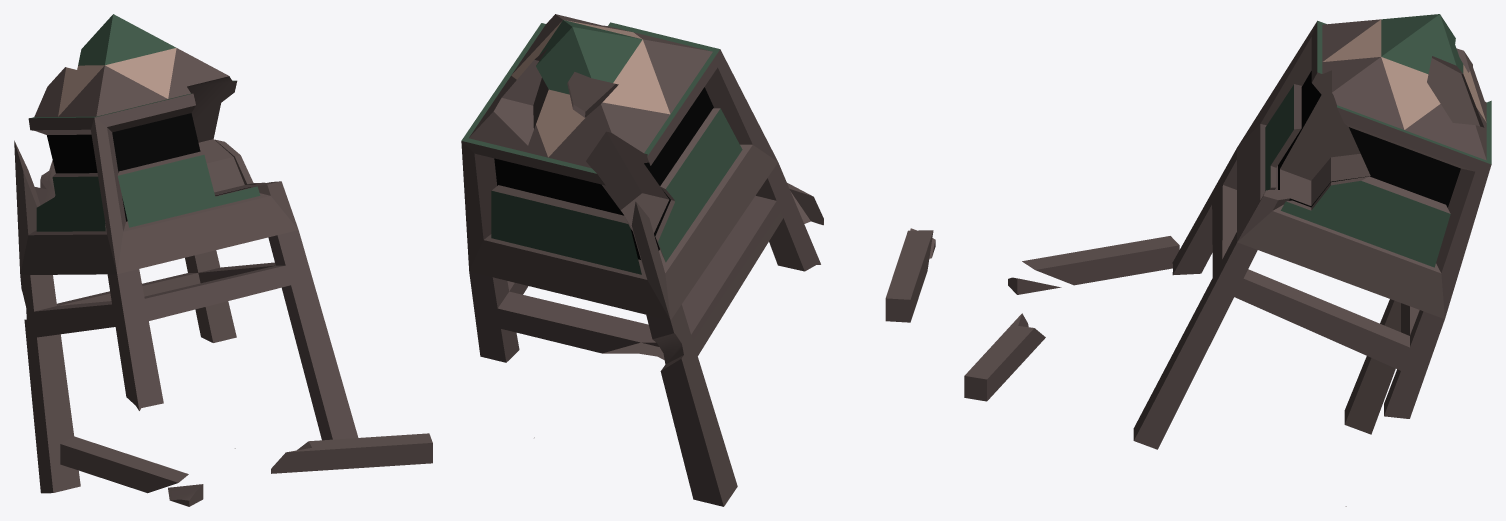
The model's file is Broken_Tower.fbx.
The picture shows the model from 3 angles, left to right: view 1: azimuth 30°, elevation 25°; view 2: azimuth 150°, elevation 25°; view 3: azimuth 270°, elevation 25°; orthographic projection. The views are drawn at different scales.
Parts seen in each view (by area): view 1: Cube.001; view 2: Cube.001; view 3: Cube.001.
Part boxes in pixels (x1,y1,x2,y2): Cube.001: [14, 14, 432, 506]; Cube.001: [461, 14, 935, 506]; Cube.001: [964, 14, 1491, 506].
Bounding box in the file's own units: 3.33 × 4.84 × 5.01.
